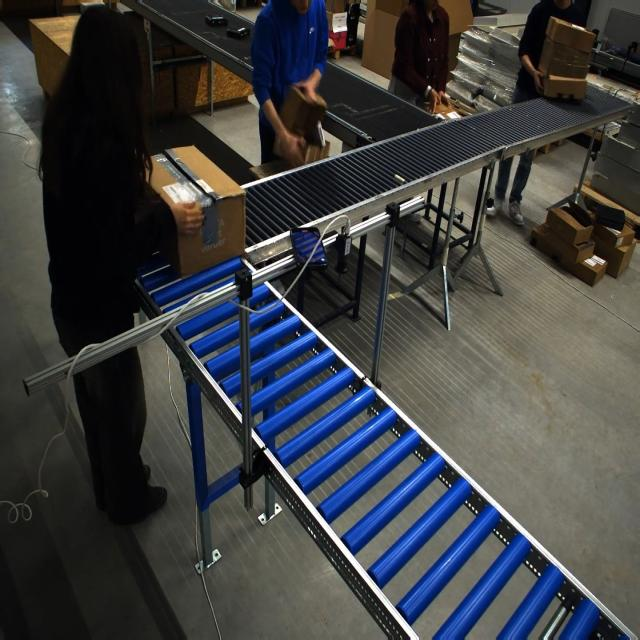box: (144, 144, 246, 277), (273, 85, 326, 169)
product: (226, 26, 249, 39), (204, 14, 228, 26)
